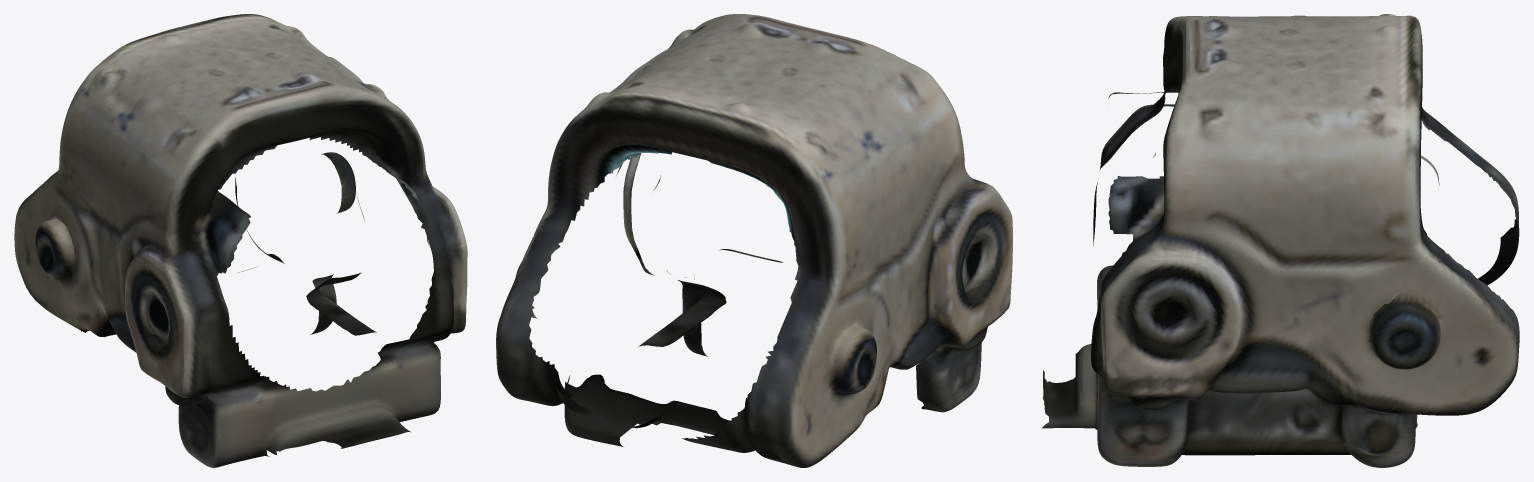
Rendered from em68a_optic_bored.glb.
3 renders of one model, left to right at view 1: azimuth 30°, elevation 25°; view 2: azimuth 150°, elevation 25°; view 3: azimuth 270°, elevation 25°, orthographic. The views are drawn at different scales.
Visible parts, largest first — view 1: em68a_optic; view 2: em68a_optic; view 3: em68a_optic.
Part boxes in pixels (x1,y1,x2,y2): em68a_optic: [14, 14, 467, 467]; em68a_optic: [496, 14, 1012, 467]; em68a_optic: [1042, 14, 1519, 467].
Size of the model in its own units: 0.0865 by 0.0904 by 0.1067.
Materials: 1 (1 with a texture image).
